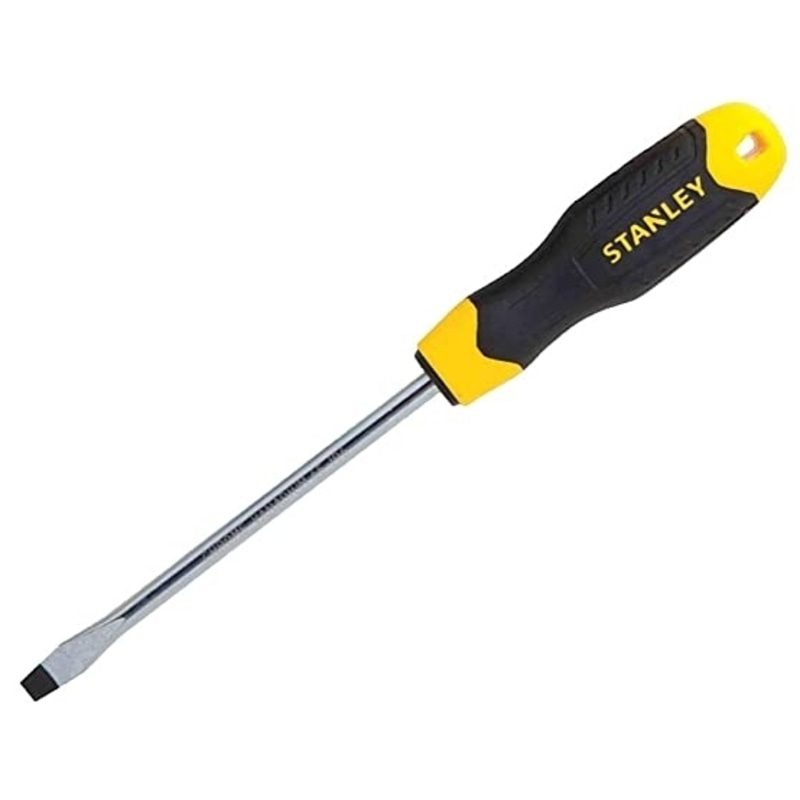screwdriver: (21, 101, 785, 708)
